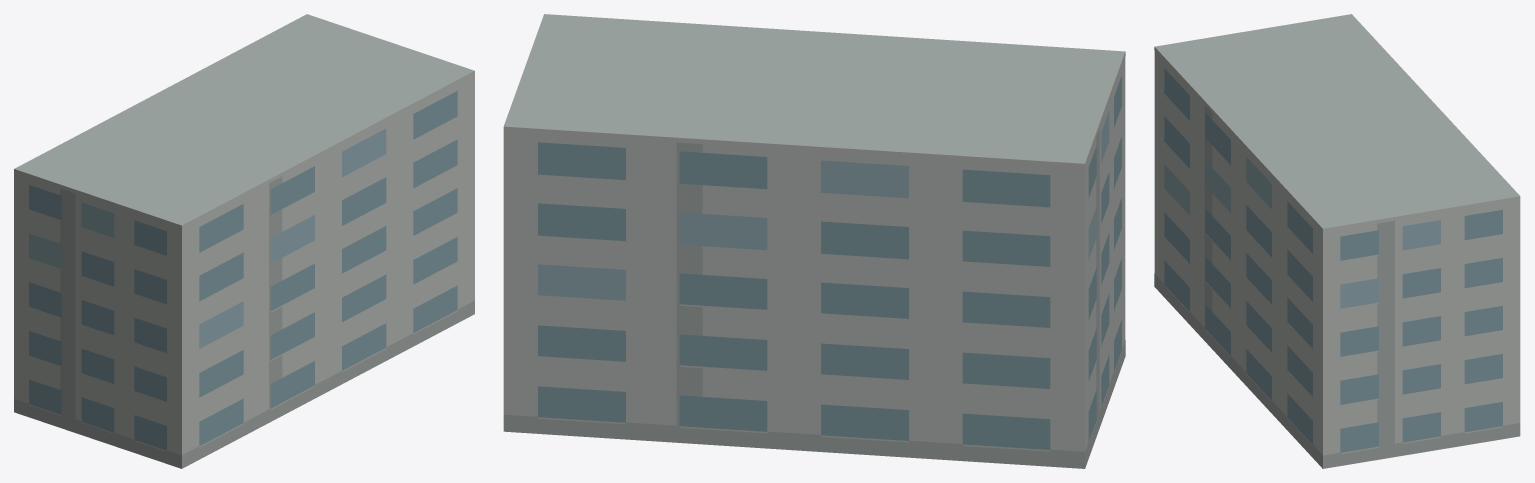
The model's file is residential-aba4999f-8705-4f5a-b891-8454867d1a6f.glb.
The picture shows the model from 3 angles, left to right: view 1: azimuth 30°, elevation 25°; view 2: azimuth 150°, elevation 25°; view 3: azimuth 270°, elevation 25°; orthographic projection. The views are drawn at different scales.
Parts seen in each view (by area): view 1: residential-aba4999f-8705-4f5a-b891-8454867d1a6f.tmp; view 2: residential-aba4999f-8705-4f5a-b891-8454867d1a6f.tmp; view 3: residential-aba4999f-8705-4f5a-b891-8454867d1a6f.tmp.
Boxes of the visible parts, <box> form: residential-aba4999f-8705-4f5a-b891-8454867d1a6f.tmp: <box>14,14,474,468</box>; residential-aba4999f-8705-4f5a-b891-8454867d1a6f.tmp: <box>503,14,1125,468</box>; residential-aba4999f-8705-4f5a-b891-8454867d1a6f.tmp: <box>1154,14,1520,468</box>.
Bounding box in the file's own units: 29.26 × 15.25 × 21.07.
